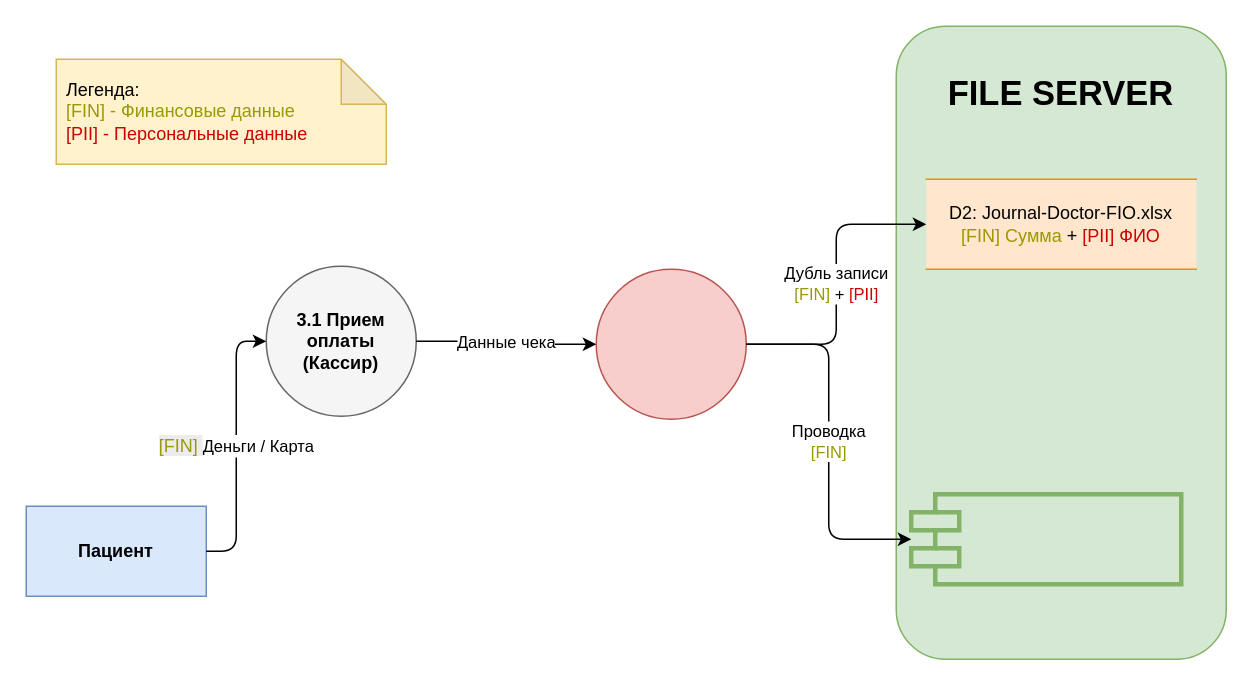
Some shapes in this 1253 by 686 pixel diagram are drawn without their labels. The shapes that lost their labels are listed below. From the top down, each one's box as (x1, y1, x2, y2) in pixels, then its label:
(595, 268, 746, 419): 3.2 Ввод данных (Ручной)
(908, 491, 1183, 586): 1С:Бухгалтерия [FIN] Учет средств
